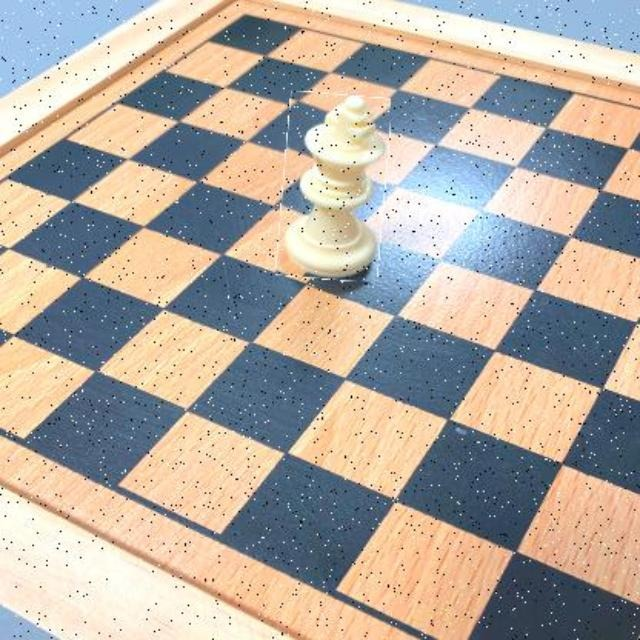white-king: (280, 93, 389, 282)
